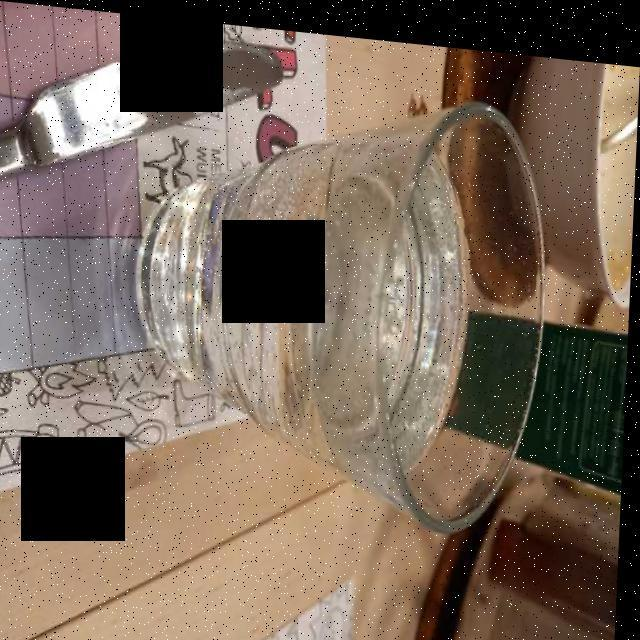water: (134, 133, 480, 466)
